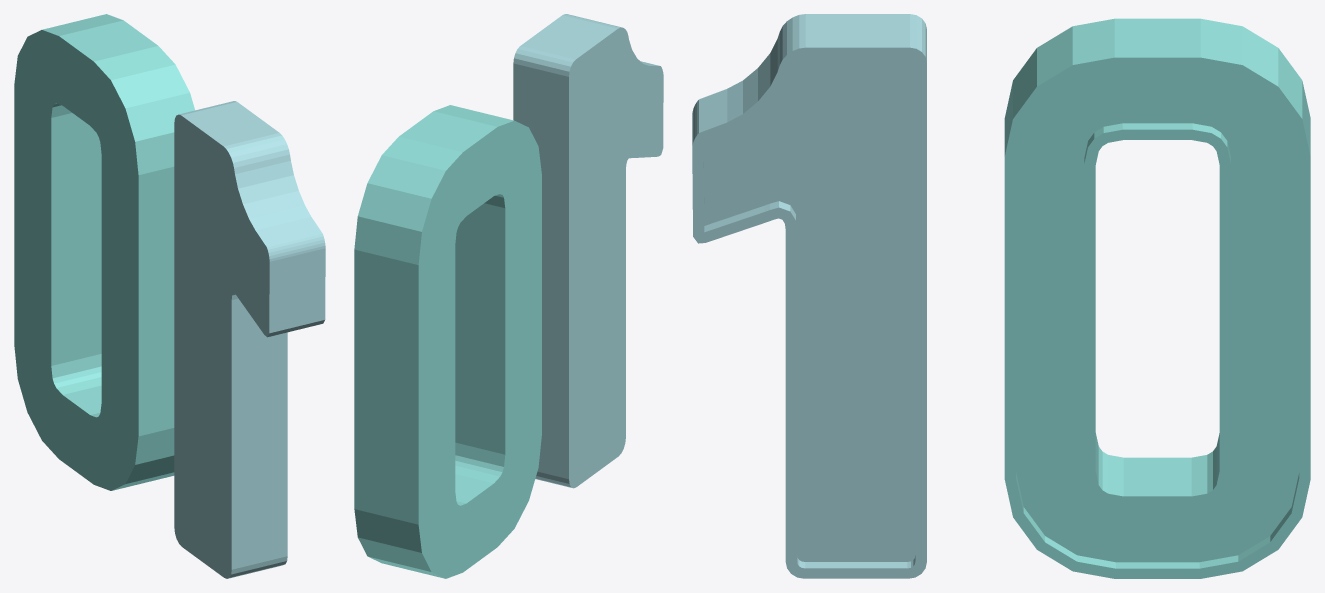
Rendered from bonus_10_wh.fbx.
3 views of the same model, side by side, from view 1: azimuth 30°, elevation 25°; view 2: azimuth 150°, elevation 25°; view 3: azimuth 270°, elevation 25° (orthographic). The views are drawn at different scales.
Visible parts, largest first — view 1: bonus_10; view 2: bonus_10; view 3: bonus_10.
Boxes of the visible parts, <box> form: bonus_10: <box>14,14,325,578</box>; bonus_10: <box>354,14,663,578</box>; bonus_10: <box>692,14,1310,578</box>.
Bounding box in the file's own units: 19.21 × 122 × 129.
